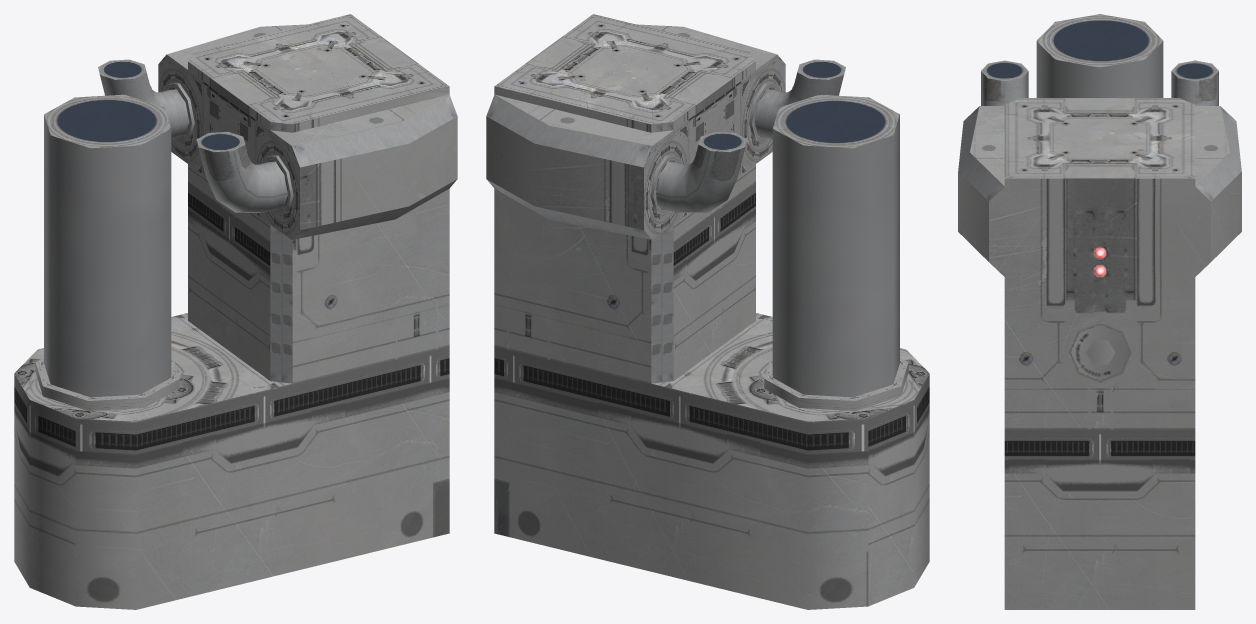
The model's file is SM_PillarsDeco2.fbx.
3 renders of one model, left to right at view 1: azimuth 30°, elevation 25°; view 2: azimuth 150°, elevation 25°; view 3: azimuth 270°, elevation 25°, orthographic. The views are drawn at different scales.
Parts seen in each view (by area): view 1: SM_PillarsDeco2_LOD0; view 2: SM_PillarsDeco2_LOD0; view 3: SM_PillarsDeco2_LOD0.
Part boxes in pixels (x1,y1,x2,y2): SM_PillarsDeco2_LOD0: [14, 14, 457, 609]; SM_PillarsDeco2_LOD0: [486, 14, 929, 609]; SM_PillarsDeco2_LOD0: [958, 14, 1241, 609].
Size of the model in its own units: 130 by 89.38 by 150.
3 materials, 3 textured.
